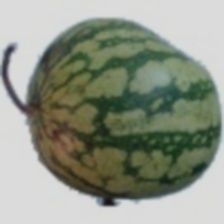watermelon: (39, 44, 189, 194)
